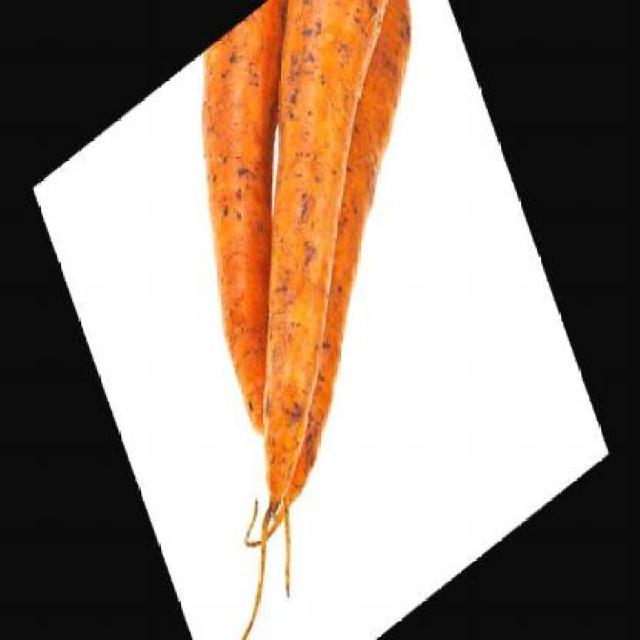carrot: (129, 0, 531, 509), (160, 0, 529, 505), (135, 0, 427, 443)
